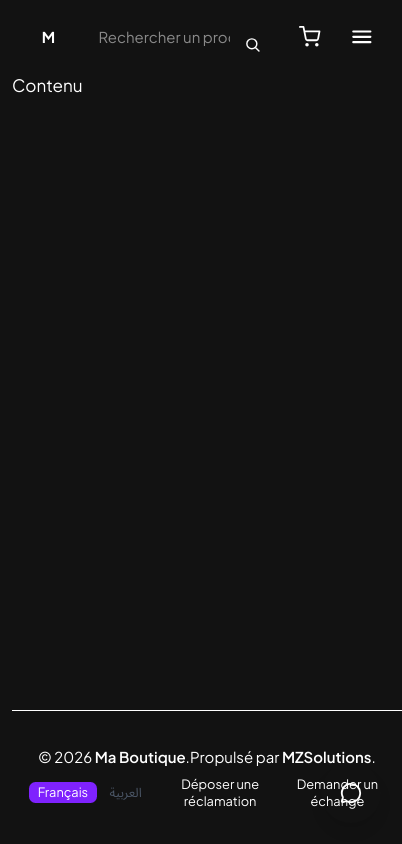
Scenario: StorefrontLayout › opens a mobile menu listing the store links, and closes it again
Click the button named "Ouvrir le menu" at (361, 36), box [338,13,385,60]
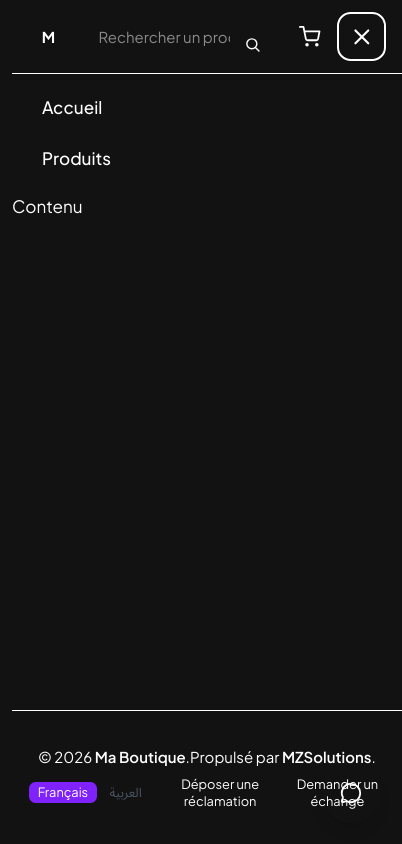
Result: the element with id "storefront-mobile-menu" is shown at [12,73,401,194]
Result: the element with id "storefront-mobile-menu" shows "Accueil" at [29,82,385,134]
Result: the element with id "storefront-mobile-menu" shows "Produits" at [29,134,385,185]
Click the button named "Fermer le menu" at (361, 36), box [338,13,385,60]
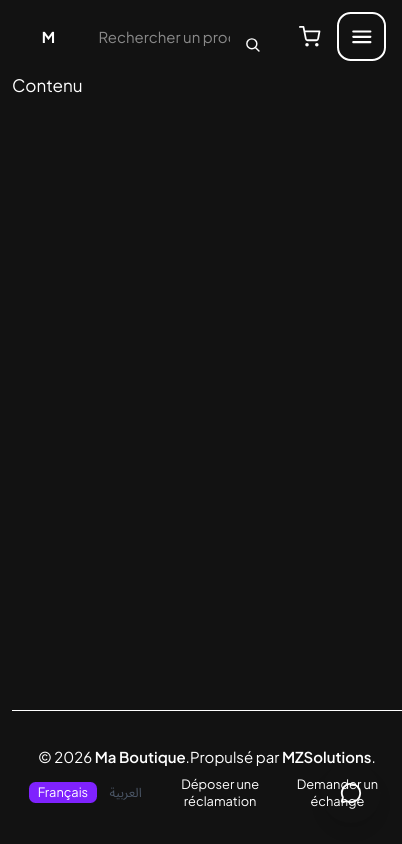
Result: the element with id "storefront-mobile-menu" is gone
